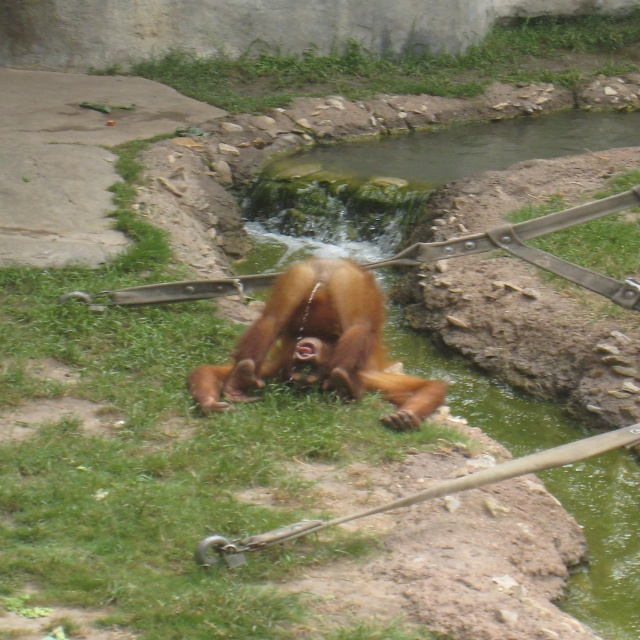Monkey: (182, 249, 451, 426)
